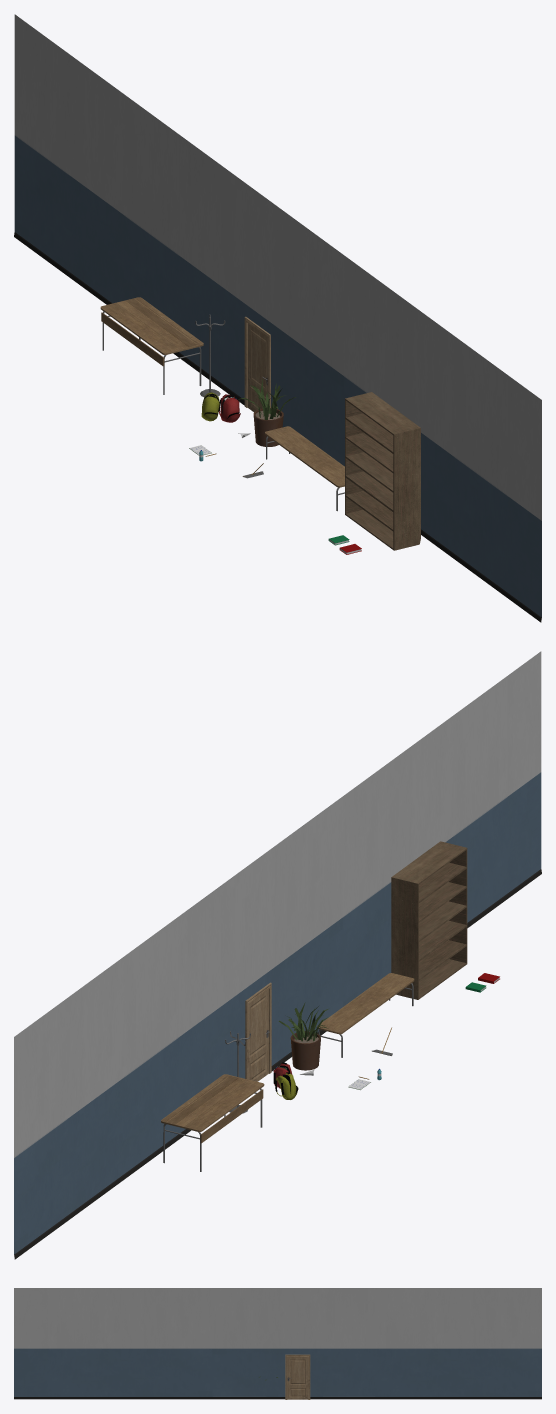
The model's file is Aboba.fbx.
The picture shows the model from 3 angles, top to bottom: view 1: azimuth 30°, elevation 25°; view 2: azimuth 150°, elevation 25°; view 3: azimuth 270°, elevation 25°; orthographic projection. The views are drawn at different scales.
Parts seen in each view (by area): view 1: MenuWall, PojilayaPolka, Desk, DoskaNaKotoroySidyat, OpenDoor, Flower, OpenDoorTop; view 2: MenuWall, PojilayaPolka, Desk, DoskaNaKotoroySidyat, OpenDoor, Flower; view 3: MenuWall, OpenDoor, OpenDoorTop.
Part boxes in pixels (x1=…): MenuWall: x1=14, y1=14, x2=541, y2=622; PojilayaPolka: x1=345, y1=392, x2=420, y2=550; Desk: x1=100, y1=297, x2=203, y2=394; DoskaNaKotoroySidyat: x1=265, y1=426, x2=344, y2=511; OpenDoor: x1=247, y1=323, x2=267, y2=412; Flower: x1=238, y1=379, x2=295, y2=446; OpenDoorTop: x1=244, y1=316, x2=270, y2=407; MenuWall: x1=14, y1=651, x2=541, y2=1259; PojilayaPolka: x1=391, y1=841, x2=467, y2=999; Desk: x1=161, y1=1074, x2=264, y2=1171; DoskaNaKotoroySidyat: x1=317, y1=973, x2=414, y2=1057; OpenDoor: x1=248, y1=989, x2=269, y2=1081; Flower: x1=278, y1=1002, x2=328, y2=1070; MenuWall: x1=14, y1=1288, x2=541, y2=1399; OpenDoor: x1=287, y1=1357, x2=308, y2=1399; OpenDoorTop: x1=285, y1=1354, x2=310, y2=1399.
Bounding box in the file's own units: 6.37 × 13.84 × 58.93.
